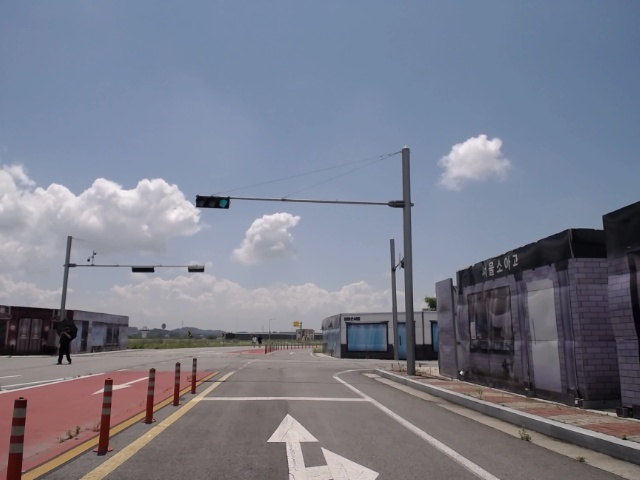green_3: (197, 196, 229, 209)
